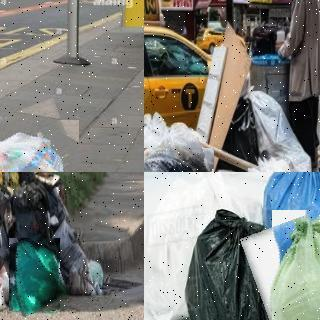Garbage: (144, 172, 246, 320), (187, 208, 298, 320), (256, 202, 320, 320), (262, 172, 320, 275), (245, 88, 314, 172), (0, 108, 86, 172), (4, 235, 65, 314), (49, 220, 92, 294), (10, 181, 48, 251), (224, 97, 258, 167), (144, 142, 219, 172), (0, 260, 11, 311)
